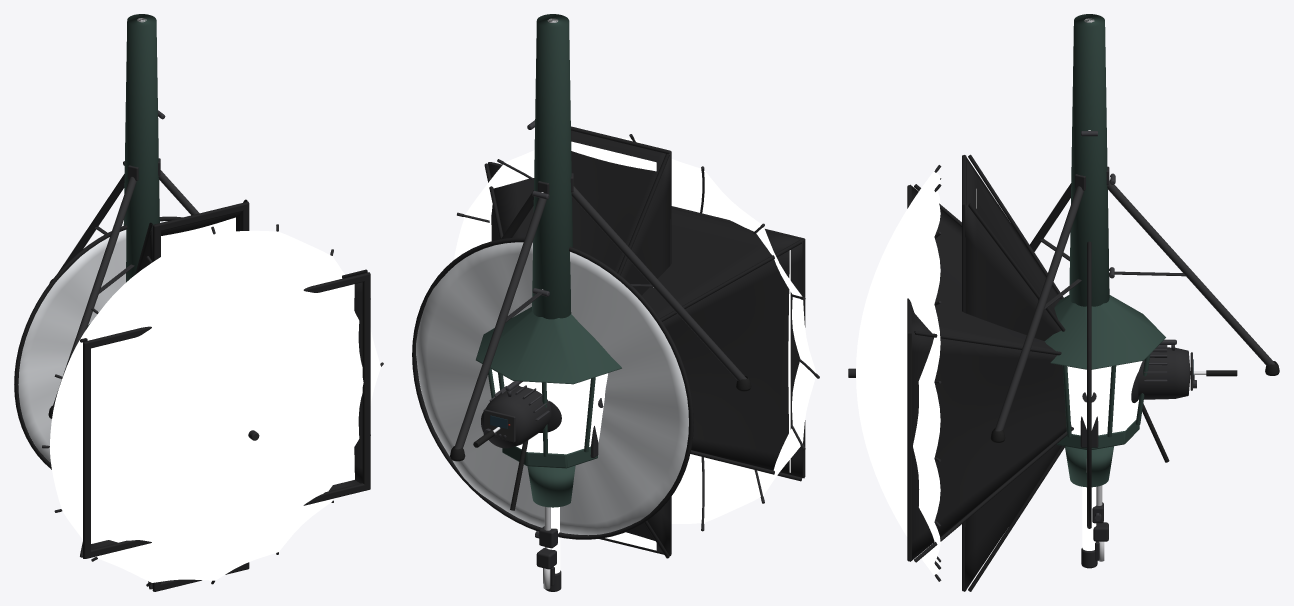
Rendered from lightkit.glb.
3 renders of one model, left to right at view 1: azimuth 30°, elevation 25°; view 2: azimuth 150°, elevation 25°; view 3: azimuth 270°, elevation 25°, orthographic. The views are drawn at different scales.
Parts seen in each view (by area): view 1: canopy, refl_face, post, sb_lip.002, sb_lip.003, leg.001, refl_rim, sb_face, sb_lip, sb_side.001, st_face, sb_lip.001 (+3 smaller); view 2: refl_face, sb_side.003, canopy, post, sb_side.002, st_side.002, lamp_hat, refl_rim, lamp_glass, st_side.003, leg, leg.001 (+8 smaller); view 3: canopy, sb_side.001, post, st_side.001, lamp_hat, sb_side.002, lamp_glass, st_side.002, leg.002, mono_body, leg, lamp_neck (+11 smaller).
Boxes of the visible parts, left/top/right/bottom form: canopy: left=49, top=230, right=380, bottom=582; refl_face: left=18, top=221, right=167, bottom=462; post: left=123, top=14, right=159, bottom=282; sb_lip.002: left=362, top=273, right=370, bottom=490; sb_lip.003: left=83, top=341, right=90, bottom=558; leg.001: left=52, top=177, right=136, bottom=408; refl_rim: left=14, top=216, right=182, bottom=469; sb_face: left=91, top=284, right=354, bottom=543; sb_lip: left=83, top=272, right=370, bottom=348; sb_side.001: left=354, top=282, right=362, bottom=483; st_face: left=161, top=217, right=235, bottom=256; sb_lip.001: left=84, top=483, right=370, bottom=558; refl_face: left=416, top=242, right=688, bottom=535; sb_side.003: left=662, top=239, right=804, bottom=478; canopy: left=454, top=138, right=816, bottom=523; post: left=532, top=14, right=572, bottom=319; sb_side.002: left=488, top=162, right=804, bottom=318; st_side.002: left=571, top=130, right=670, bottom=272; lamp_hat: left=476, top=307, right=621, bottom=384; refl_rim: left=412, top=237, right=693, bottom=539; lamp_glass: left=492, top=369, right=607, bottom=454; st_side.003: left=620, top=152, right=670, bottom=555; leg: left=454, top=198, right=546, bottom=449; leg.001: left=571, top=186, right=746, bottom=380; canopy: left=856, top=171, right=940, bottom=574; sb_side.001: left=910, top=332, right=1071, bottom=561; post: left=1069, top=14, right=1109, bottom=306; st_side.001: left=965, top=204, right=1061, bottom=591; lamp_hat: left=1044, top=295, right=1165, bottom=369; sb_side.002: left=910, top=185, right=1055, bottom=350; lamp_glass: left=1067, top=361, right=1142, bottom=435; st_side.002: left=964, top=157, right=1060, bottom=318; leg.002: left=994, top=186, right=1083, bottom=431; mono_body: left=1138, top=347, right=1190, bottom=399; leg: left=1107, top=181, right=1275, bottom=365; lamp_neck: left=1065, top=446, right=1113, bottom=487.
Size of the model in its own units: 1.07 by 1.55 by 1.11.
